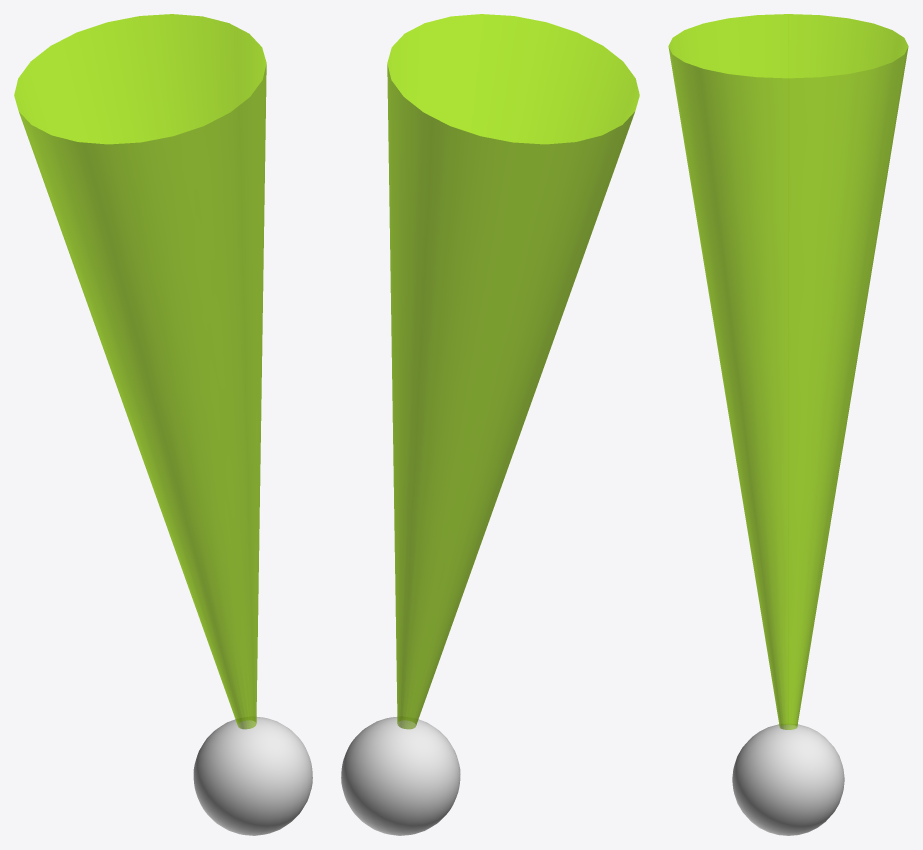
File: laser.FBX
3 views of the same model, side by side, from view 1: azimuth 30°, elevation 25°; view 2: azimuth 150°, elevation 25°; view 3: azimuth 270°, elevation 25° (orthographic). The views are drawn at different scales.
Visible parts, largest first — view 1: Cone001, BoundingSphere; view 2: Cone001, BoundingSphere; view 3: Cone001, BoundingSphere.
Boxes of the visible parts, <box> form: Cone001: <box>14,14,266,729</box>; BoundingSphere: <box>193,717,312,835</box>; Cone001: <box>387,14,639,729</box>; BoundingSphere: <box>341,717,460,835</box>; Cone001: <box>668,14,908,729</box>; BoundingSphere: <box>732,724,844,835</box>.
Size of the model in its own units: 36.91 by 103 by 29.82.
